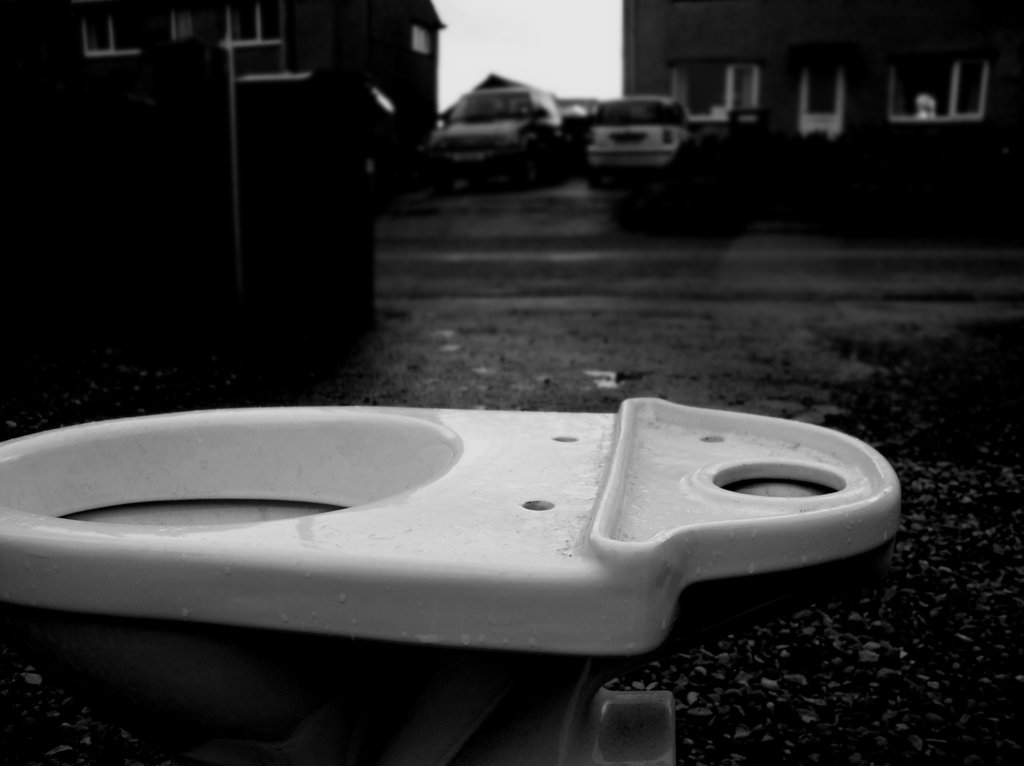Car: (423, 86, 699, 177)
